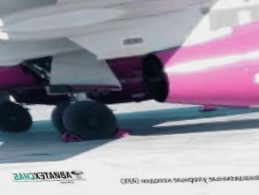chock: (56, 129, 83, 143), (107, 126, 133, 139)
wheel: (55, 98, 123, 143), (0, 99, 41, 136)
